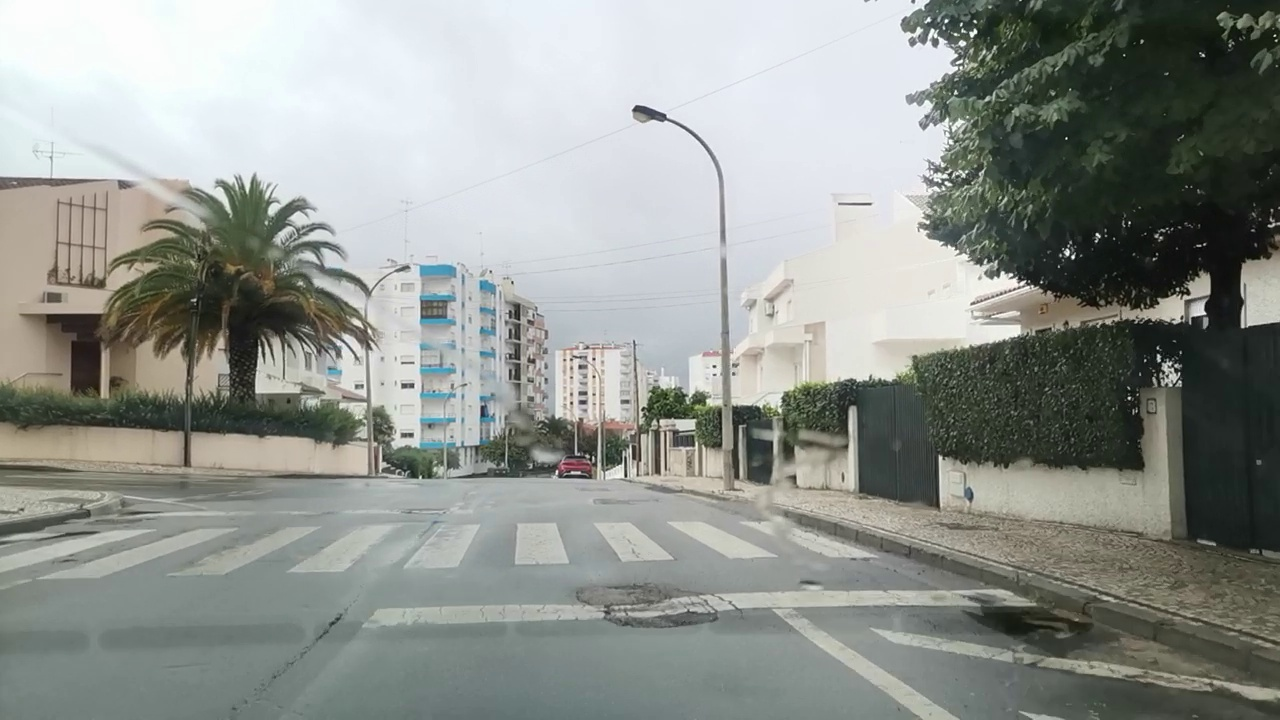Stairs: (0, 518, 880, 583)
